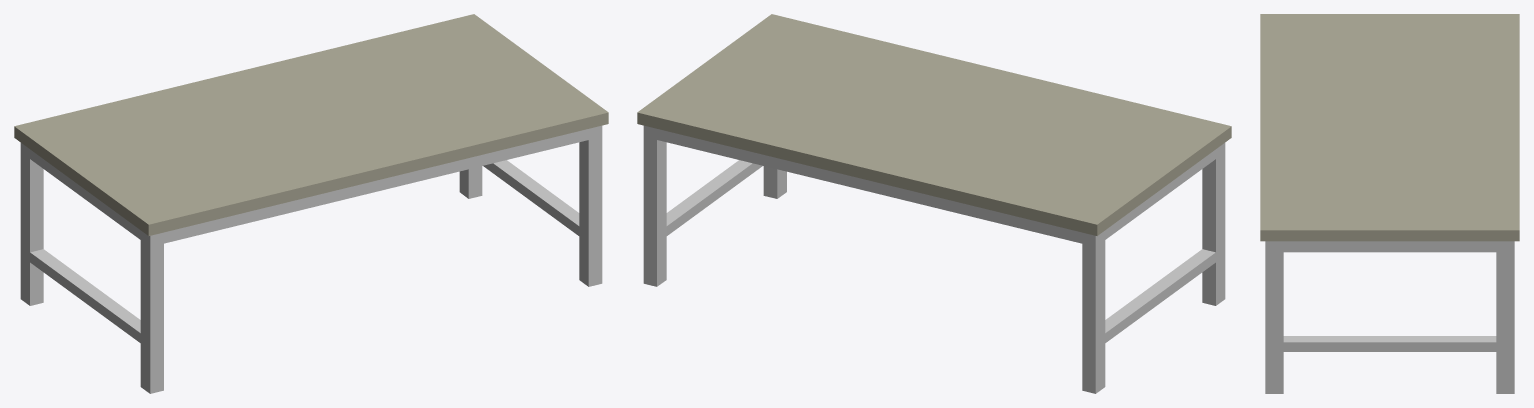
The model's file is Desk_3.dae.
The picture shows the model from 3 angles, left to right: view 1: azimuth 30°, elevation 25°; view 2: azimuth 150°, elevation 25°; view 3: azimuth 270°, elevation 25°; orthographic projection. The views are drawn at different scales.
Parts seen in each view (by area): view 1: Desk_3; view 2: Desk_3; view 3: Desk_3.
Part boxes in pixels (<box>): Desk_3: <box>14,14,608,393</box>; Desk_3: <box>637,14,1231,393</box>; Desk_3: <box>1260,14,1519,393</box>.
Size of the model in its own units: 1.39 by 0.7039 by 0.4964.
